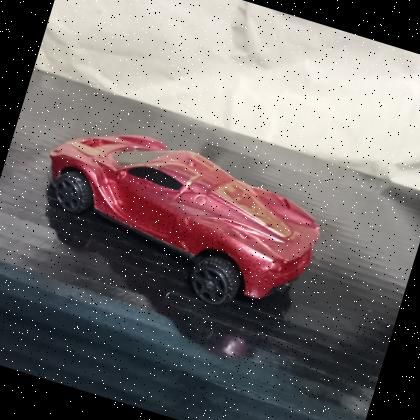Car: (12, 100, 339, 337)
